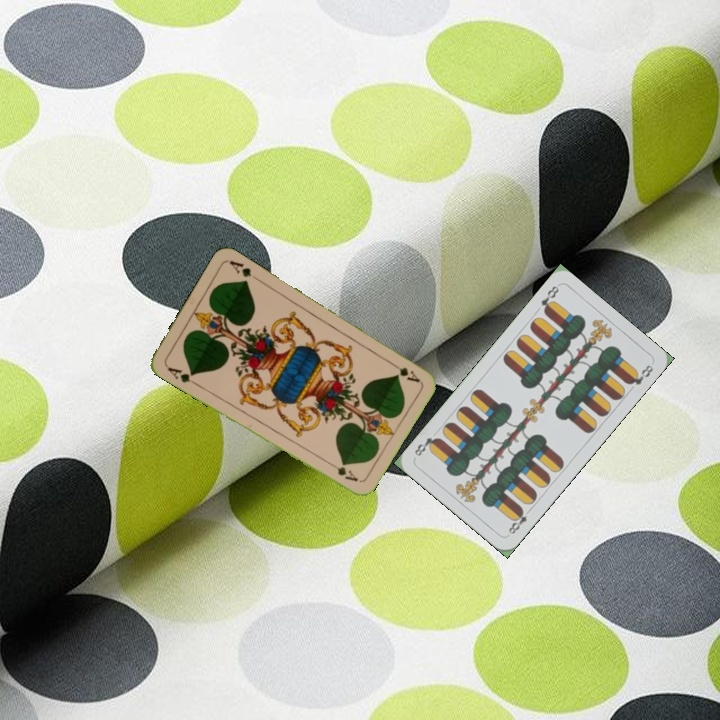E8: (504, 504, 534, 537), (537, 281, 562, 317)
GA: (163, 361, 199, 388), (386, 358, 422, 385)
